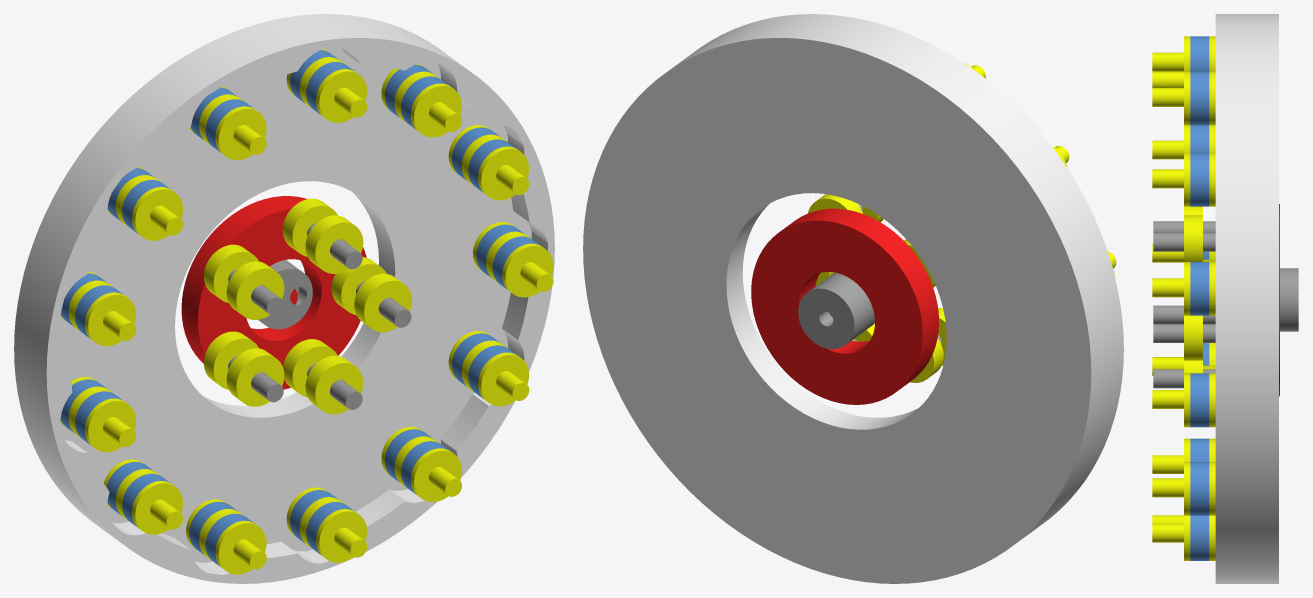
Rendered from case-with-bearings.obj.
3 views of the same model, side by side, from view 1: azimuth 30°, elevation 25°; view 2: azimuth 150°, elevation 25°; view 3: azimuth 270°, elevation 25° (orthographic). The views are drawn at different scales.
Parts seen in each view (by area): view 1: Body31, Body2, Body106, Body107, Body104, Body105, Body103, Body93, Body24:2, Body17:2, Body21:2, Body22:2 (+39 smaller); view 2: Body31, Body2, Body93; view 3: Body31, Body93, Body21, Body24, Body27, Body28, Body29, Body20, Body103, Body7, Body107, Body3 (+34 smaller).
Boxes of the visible parts, x1,y1,x2,y2 form: Body31: (14, 14, 554, 583); Body2: (181, 196, 366, 389); Body106: (305, 356, 363, 414); Body107: (354, 273, 411, 332); Body104: (226, 261, 284, 319); Body105: (226, 348, 284, 406); Body103: (305, 215, 363, 273); Body93: (258, 260, 312, 329); Body24:2: (502, 243, 553, 297); Body17:2: (215, 106, 266, 160); Body21:2: (316, 509, 367, 562); Body22:2: (215, 520, 266, 574); Body31: (583, 14, 1123, 583); Body2: (751, 208, 938, 404); Body93: (798, 272, 874, 349); Body31: (1215, 14, 1278, 583); Body93: (1280, 268, 1298, 331); Body21: (1190, 373, 1209, 427); Body24: (1190, 71, 1209, 125); Body27: (1190, 153, 1209, 206); Body28: (1190, 462, 1209, 515); Body29: (1190, 262, 1209, 315); Body20: (1190, 515, 1209, 560); Body103: (1184, 215, 1202, 261); Body7: (1153, 232, 1215, 251); Body107: (1184, 315, 1202, 360); Body3: (1153, 324, 1215, 342).
Size of the model in its own units: 180 by 180 by 46.28.
